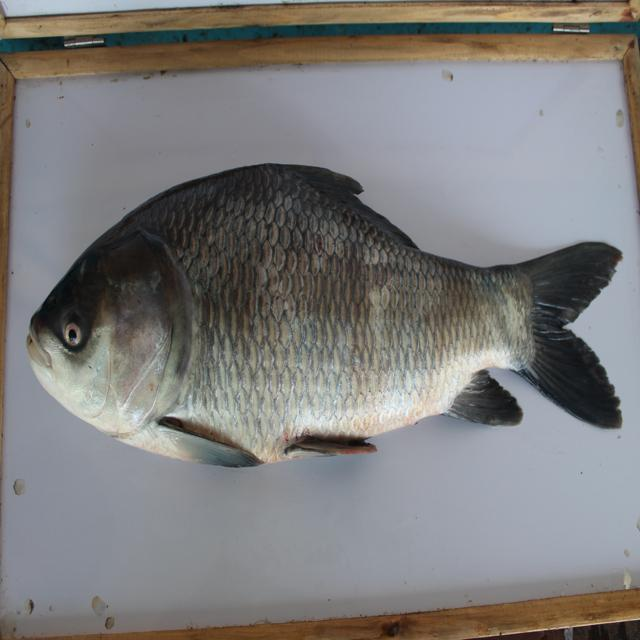Catla: (26, 158, 627, 477)
